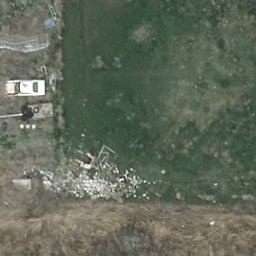car: (3, 81, 46, 97)
